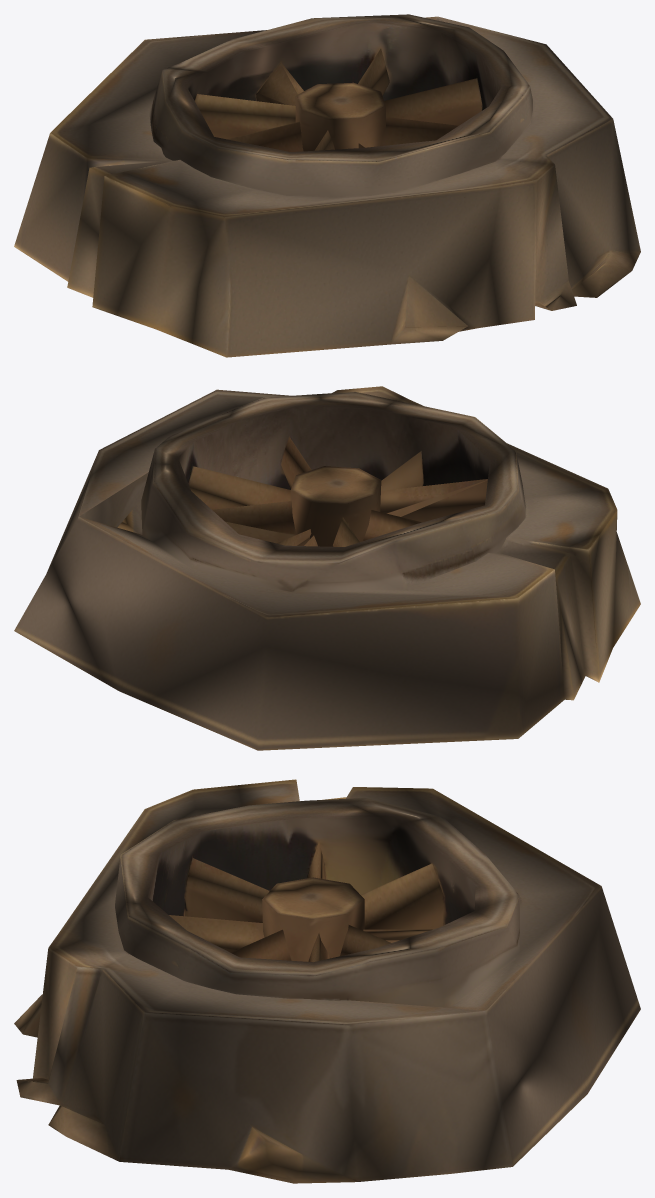
Rendered from Meshy_AI_Desert_Turbine_0831084319_texture.fbx.
3 views of the same model, one above another, from view 1: azimuth 30°, elevation 25°; view 2: azimuth 150°, elevation 25°; view 3: azimuth 270°, elevation 25° (orthographic). The views are drawn at different scales.
Parts seen in each view (by area): view 1: mesh_node; view 2: mesh_node; view 3: mesh_node.
Boxes of the visible parts, x1,y1,x2,y2 form: mesh_node: (14, 14, 640, 357); mesh_node: (14, 386, 640, 750); mesh_node: (14, 779, 640, 1183).
Bounding box in the file's own units: 100 × 29.69 × 96.48.
1 material, 1 textured.
